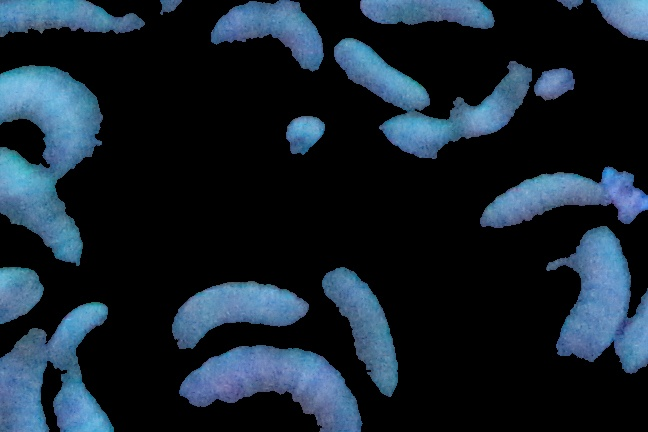larvae: (172, 352, 367, 432), (1, 40, 110, 173), (1, 133, 90, 271), (555, 221, 639, 365), (317, 266, 400, 394), (478, 157, 621, 231), (172, 283, 307, 351), (57, 302, 124, 432), (200, 6, 334, 69), (332, 38, 442, 110), (445, 64, 537, 133), (1, 1, 155, 37), (4, 329, 52, 432), (344, 1, 508, 29)
